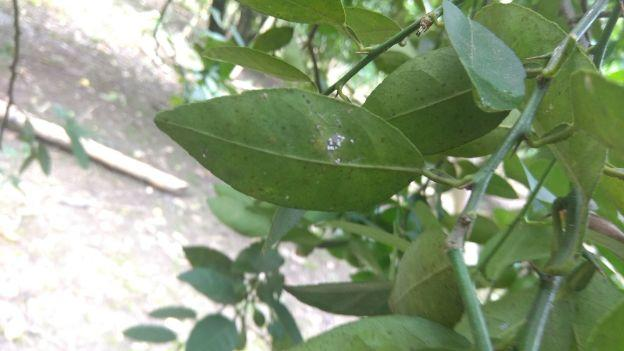Myzus persicae: (322, 132, 358, 167)
